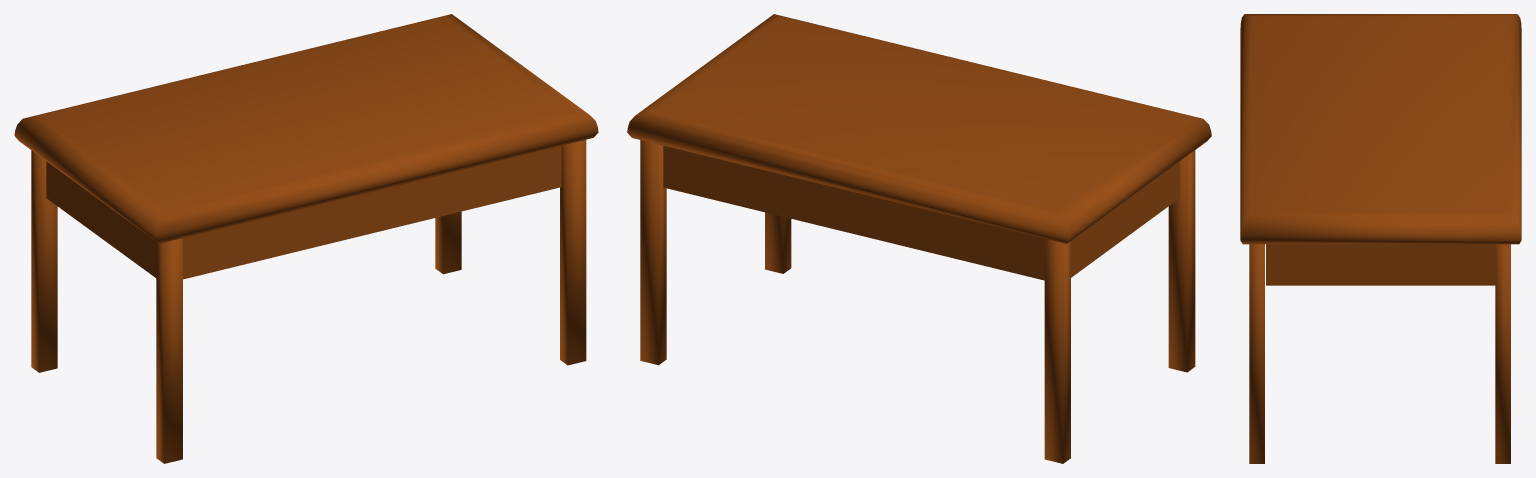
File: mdl_table.obj
3 renders of one model, left to right at view 1: azimuth 30°, elevation 25°; view 2: azimuth 150°, elevation 25°; view 3: azimuth 270°, elevation 25°, orthographic.
Parts seen in each view (by area): view 1: Table_Plane.003; view 2: Table_Plane.003; view 3: Table_Plane.003.
Boxes of the visible parts, <box> form: Table_Plane.003: <box>14,14,598,463</box>; Table_Plane.003: <box>627,14,1211,463</box>; Table_Plane.003: <box>1240,14,1521,463</box>.
Size of the model in its own units: 2.01 by 1.09 by 1.12.
